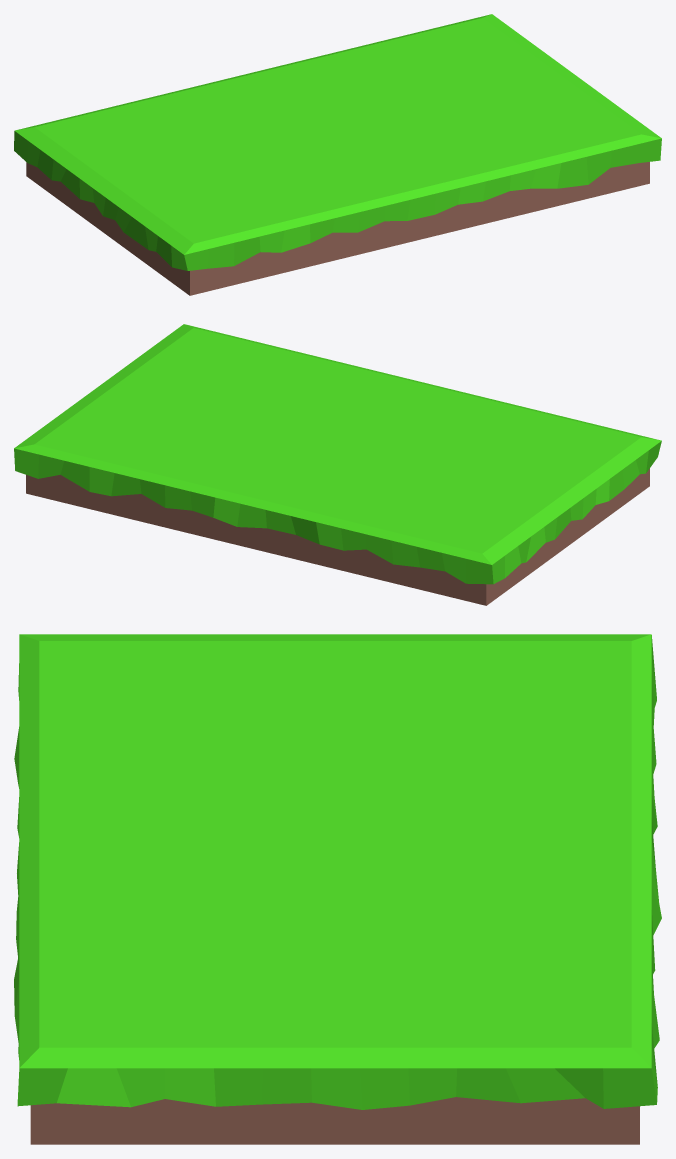
Rendered from Ground.fbx.
The picture shows the model from 3 angles, top to bottom: view 1: azimuth 30°, elevation 25°; view 2: azimuth 150°, elevation 25°; view 3: azimuth 270°, elevation 25°; orthographic projection. The views are drawn at different scales.
Visible parts, largest first — view 1: Plane; view 2: Plane; view 3: Plane.
Boxes of the visible parts, x1,y1,x2,y2 form: Plane: [14, 14, 661, 295]; Plane: [14, 324, 661, 605]; Plane: [14, 634, 661, 1144].
Bounding box in the file's own units: 3763 × 362 × 2328.
